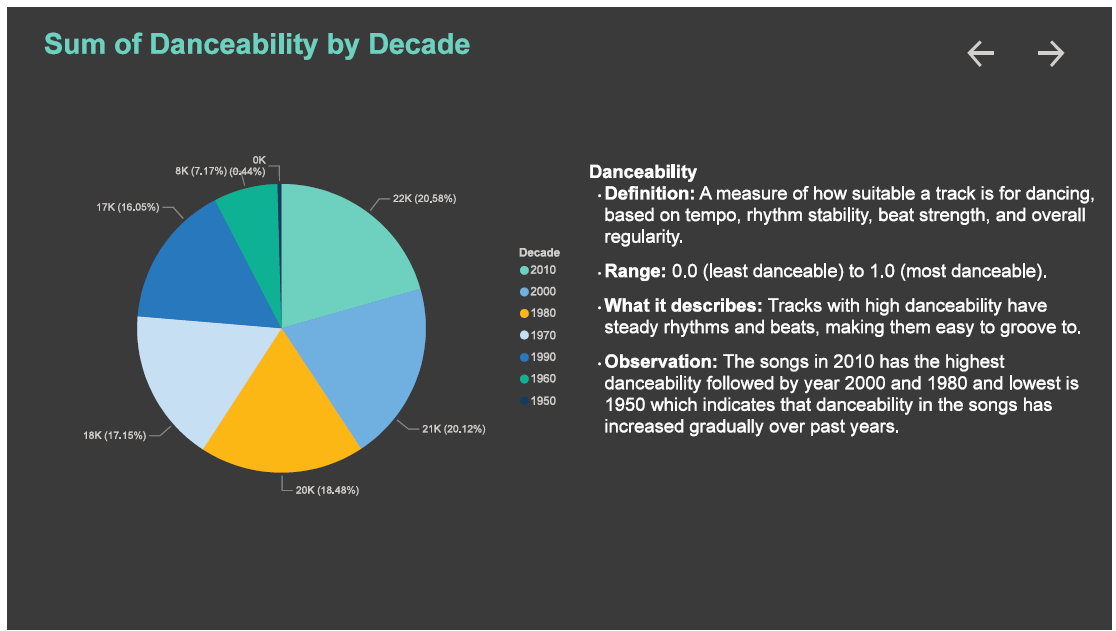

The page's visual inventory and layout, read from the dashboard file:
{"tool":"powerbi","page":{"name":"Danceability(Top 10)","canvas":[1280,720],"ordinal":3},"visuals":[{"type":"pieChart","fields":{"Y":["Sum(Spotify-2000-Prepared.Danceability)"],"Category":["Spotify-2000-Prepared.Decade"]},"box":[36.7,23.3,630,660],"z":0},{"type":"actionButton","box":[1189.4,32.8,56.7,40],"z":1000},{"type":"actionButton","box":[1109.4,32.8,55,40],"z":2000},{"type":"textbox","box":[668.9,173.3,602.2,375.6],"z":3000}]}

Visuals, with their boxes in screenshot pixels (x1, y1, x2, y2), scaled from the page's 1280x720 canvas onto the 1116x631 screenshot:
pieChart - Sum(Spotify-2000-Prepared.Danceability) x Spotify-2000-Prepared.Decade: bbox(32, 20, 581, 599)
actionButton: bbox(1037, 29, 1086, 64)
actionButton: bbox(967, 29, 1015, 64)
textbox: bbox(583, 152, 1108, 481)
